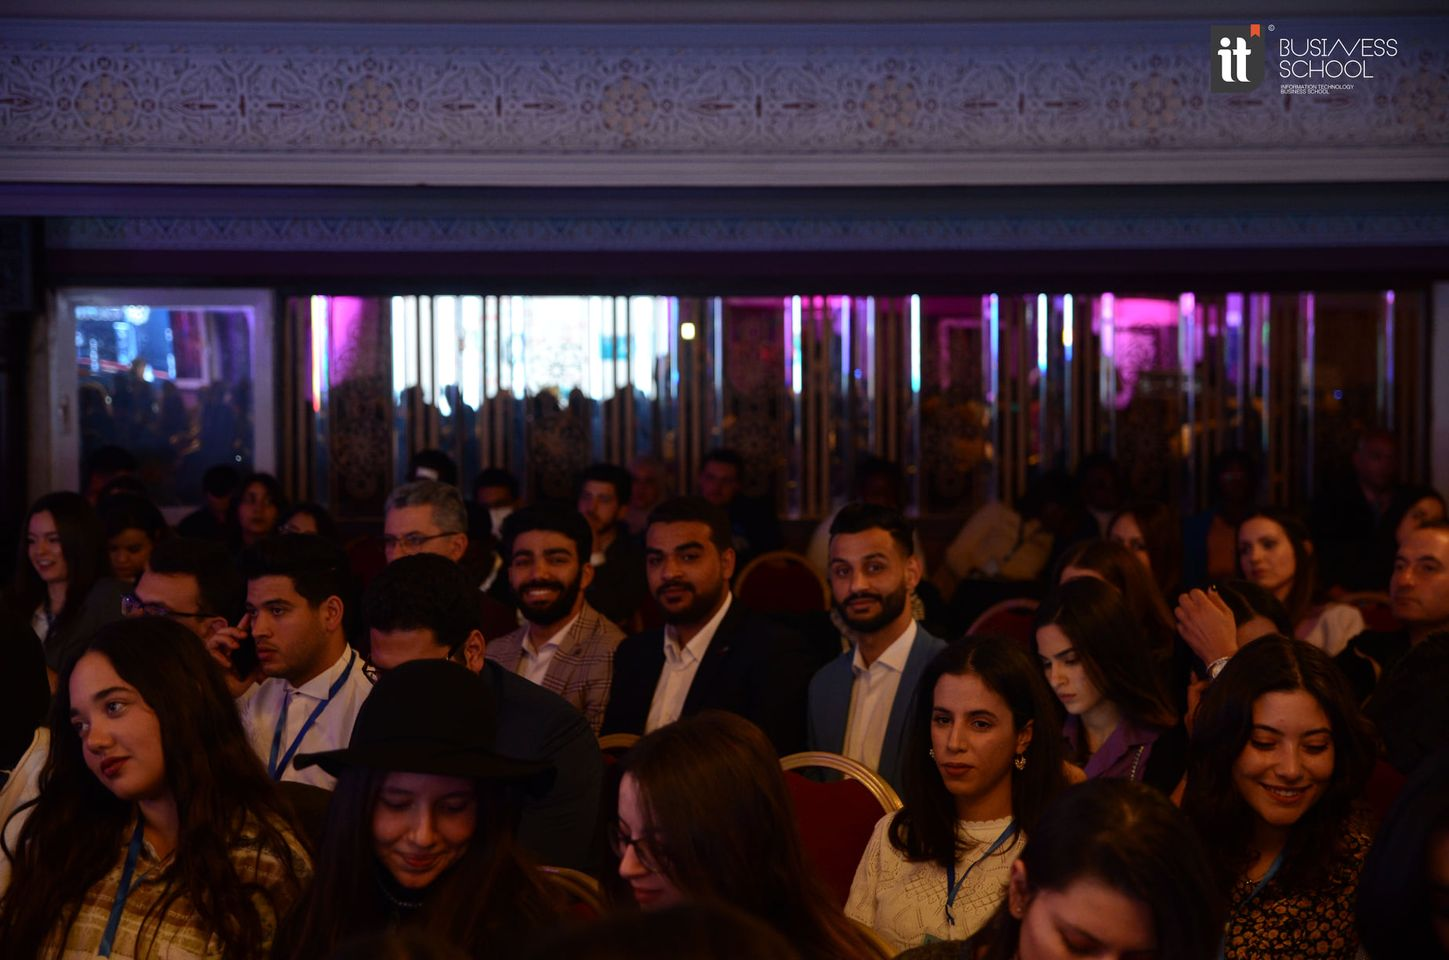without_mask: (1241, 719, 1332, 824), (61, 683, 152, 778), (379, 782, 466, 874), (927, 702, 1008, 791), (505, 544, 577, 618), (640, 540, 709, 612), (830, 551, 900, 620), (240, 598, 309, 667), (1037, 644, 1099, 716), (1391, 550, 1447, 612), (1239, 530, 1286, 586), (26, 524, 66, 584)
